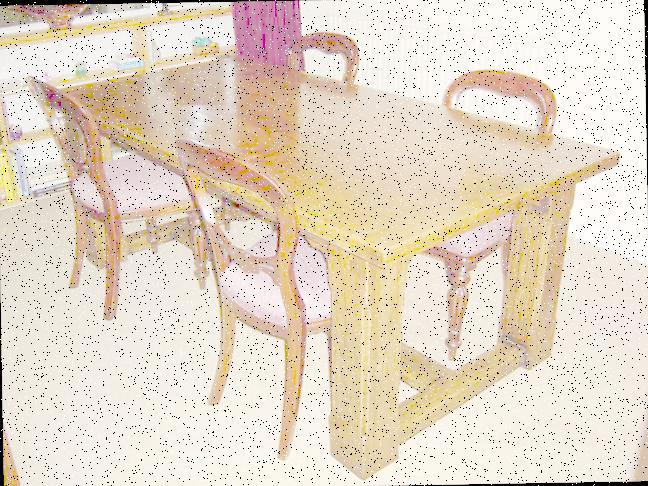Mesa: (40, 45, 620, 478)
Silla: (171, 128, 402, 473), (358, 76, 577, 360), (19, 73, 216, 316), (239, 30, 377, 237)
